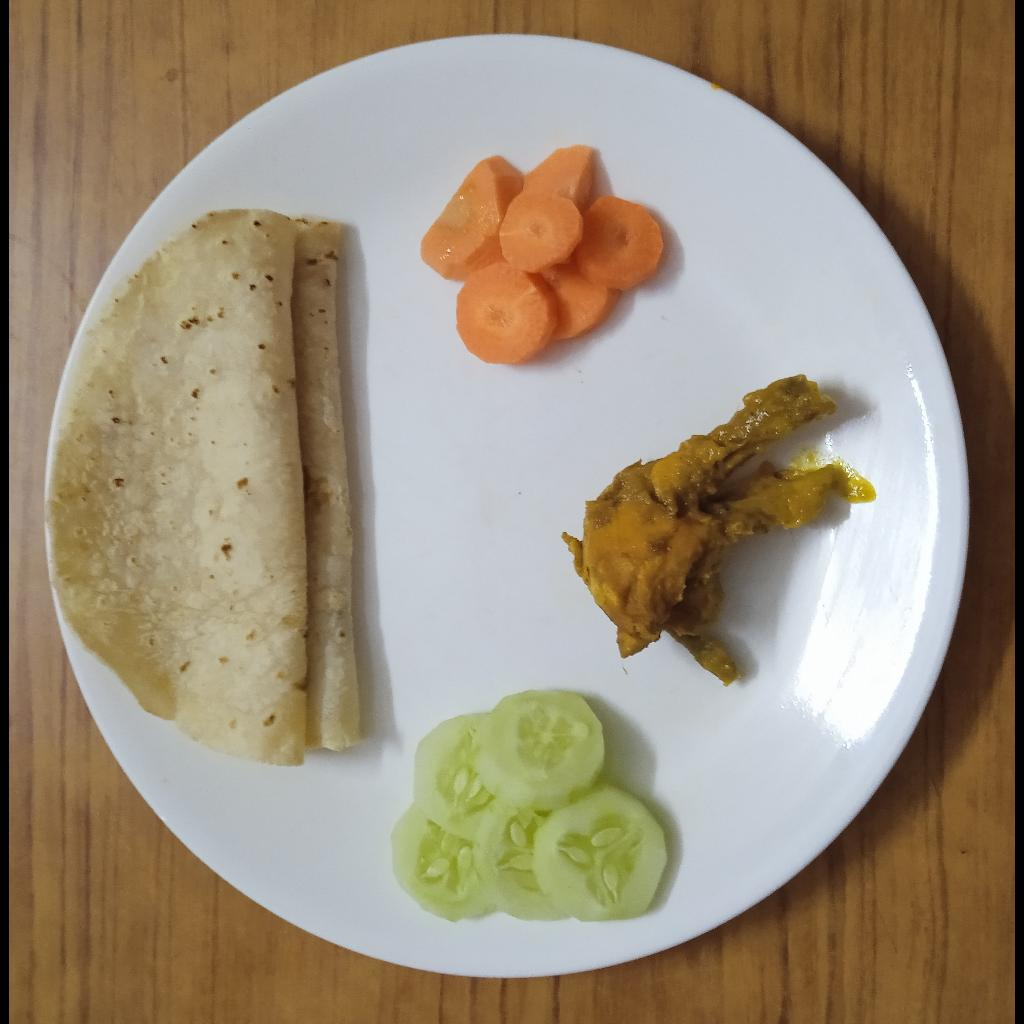carrot: (419, 146, 663, 365)
chicken: (562, 377, 842, 689)
cucumber: (391, 689, 669, 924)
ruti: (47, 209, 363, 766)
